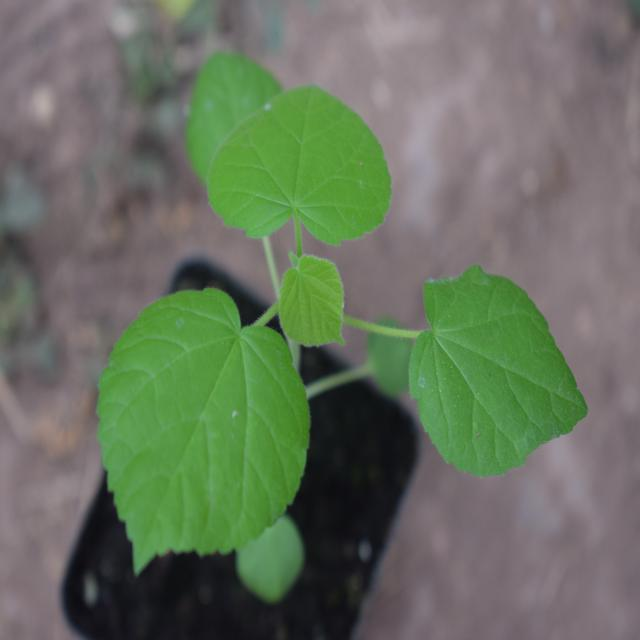abutilon theophrasti: (78, 34, 556, 571)
